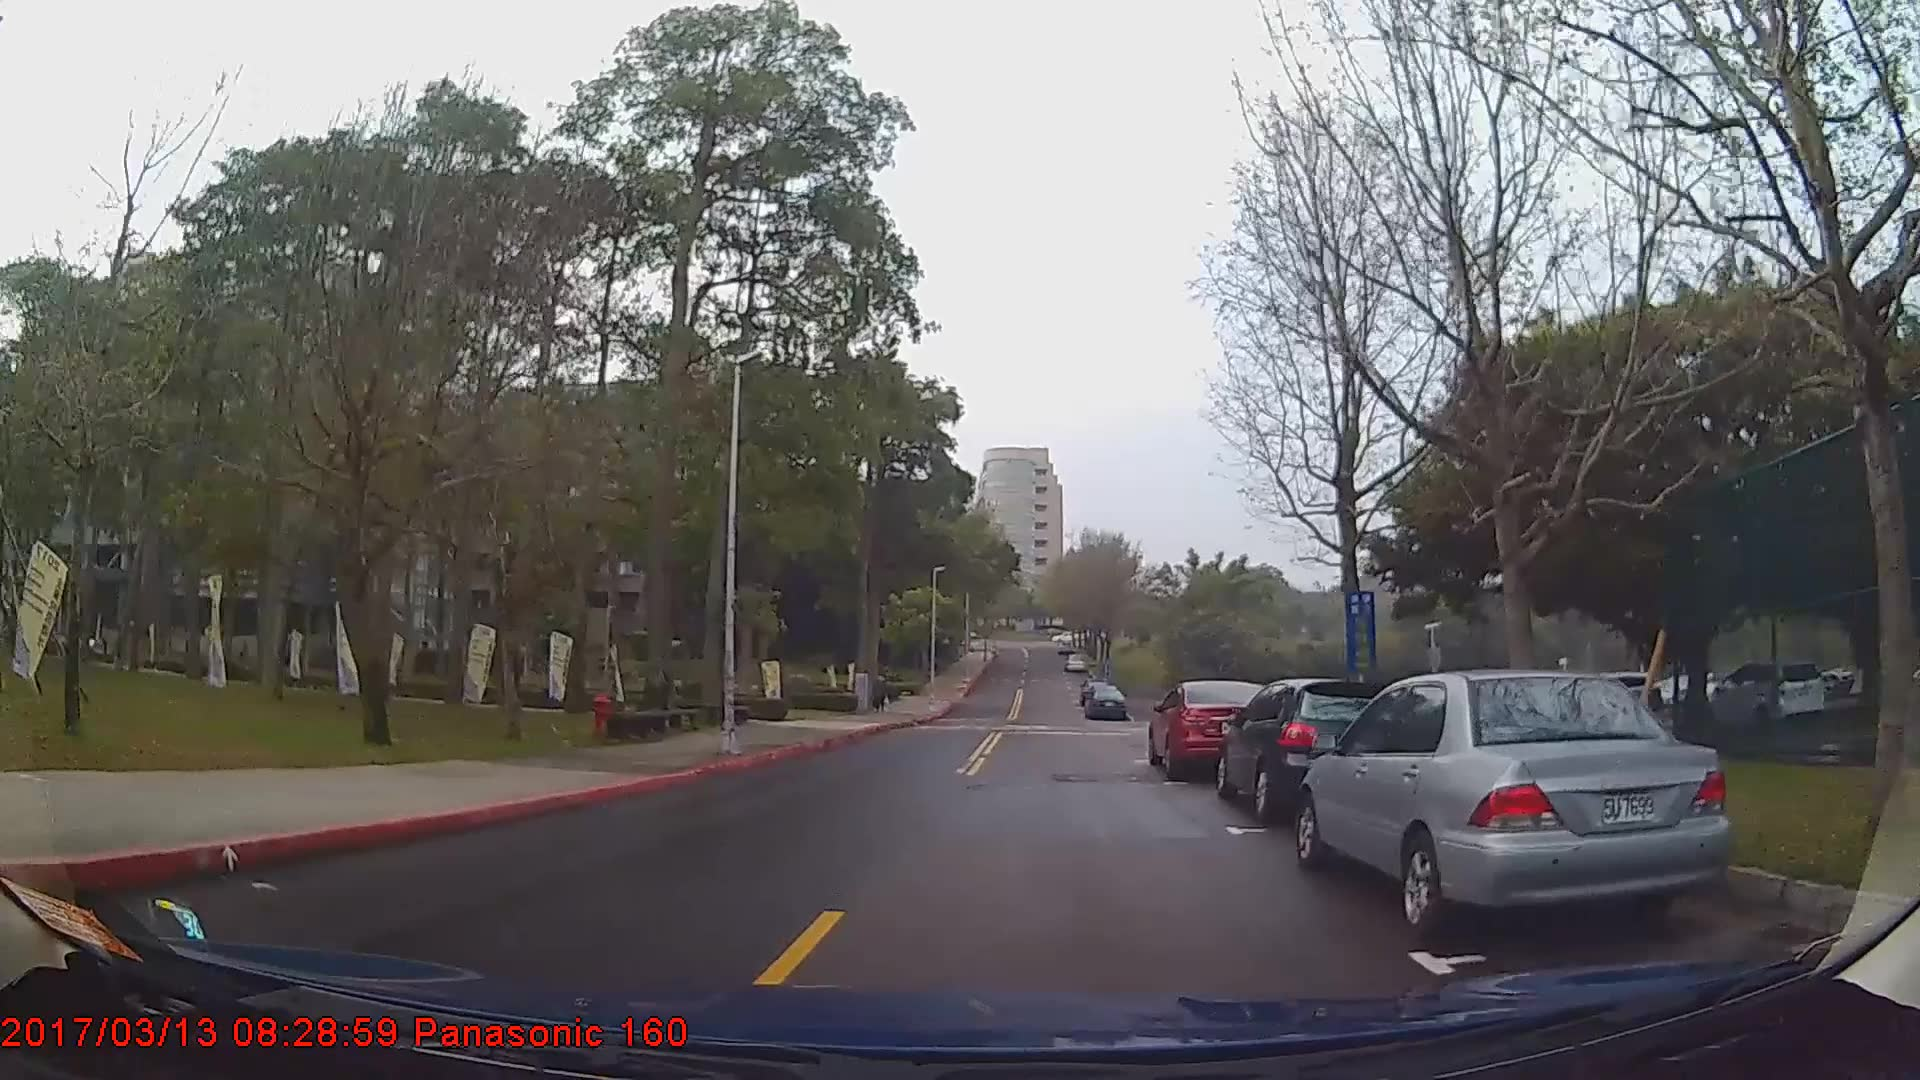vehicle: (1294, 669, 1733, 942), (1213, 676, 1410, 816), (1146, 676, 1279, 785), (1709, 657, 1822, 724), (1083, 684, 1126, 723)
